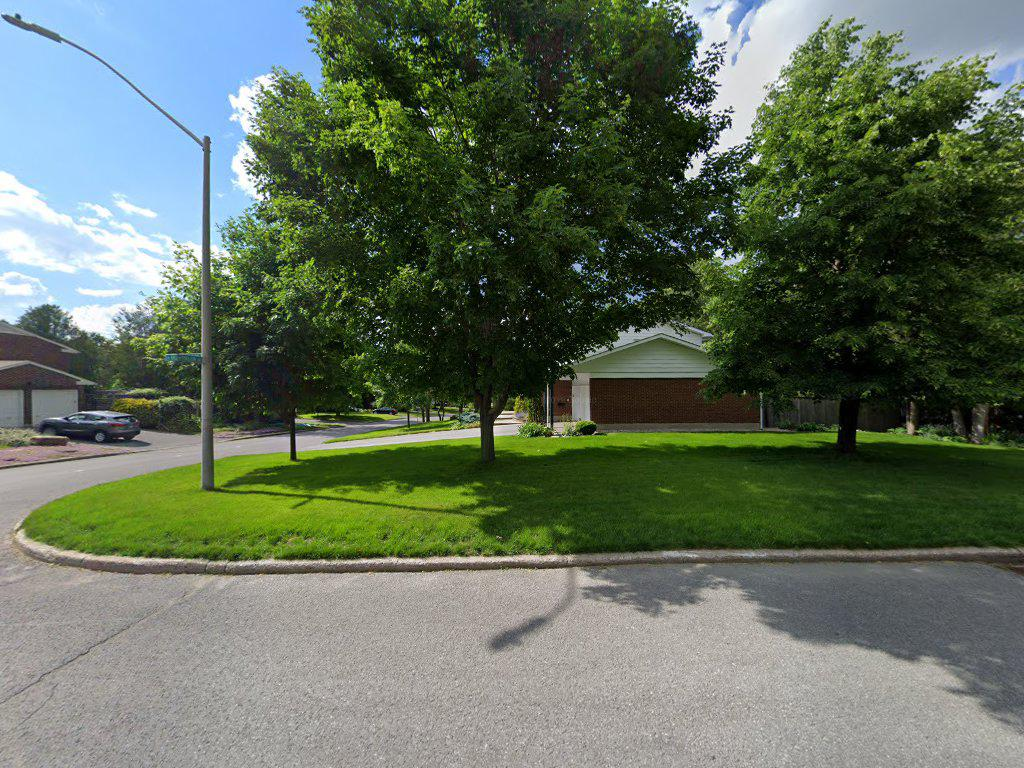trunk: (472, 378, 504, 471), (837, 386, 860, 457)
